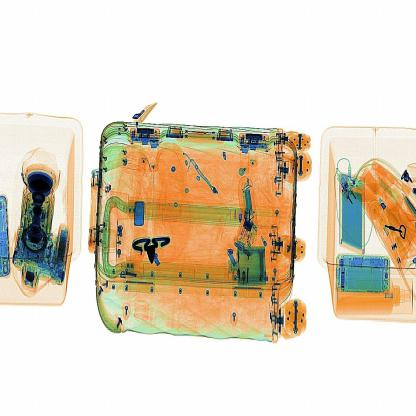gun: (128, 221, 175, 271)
